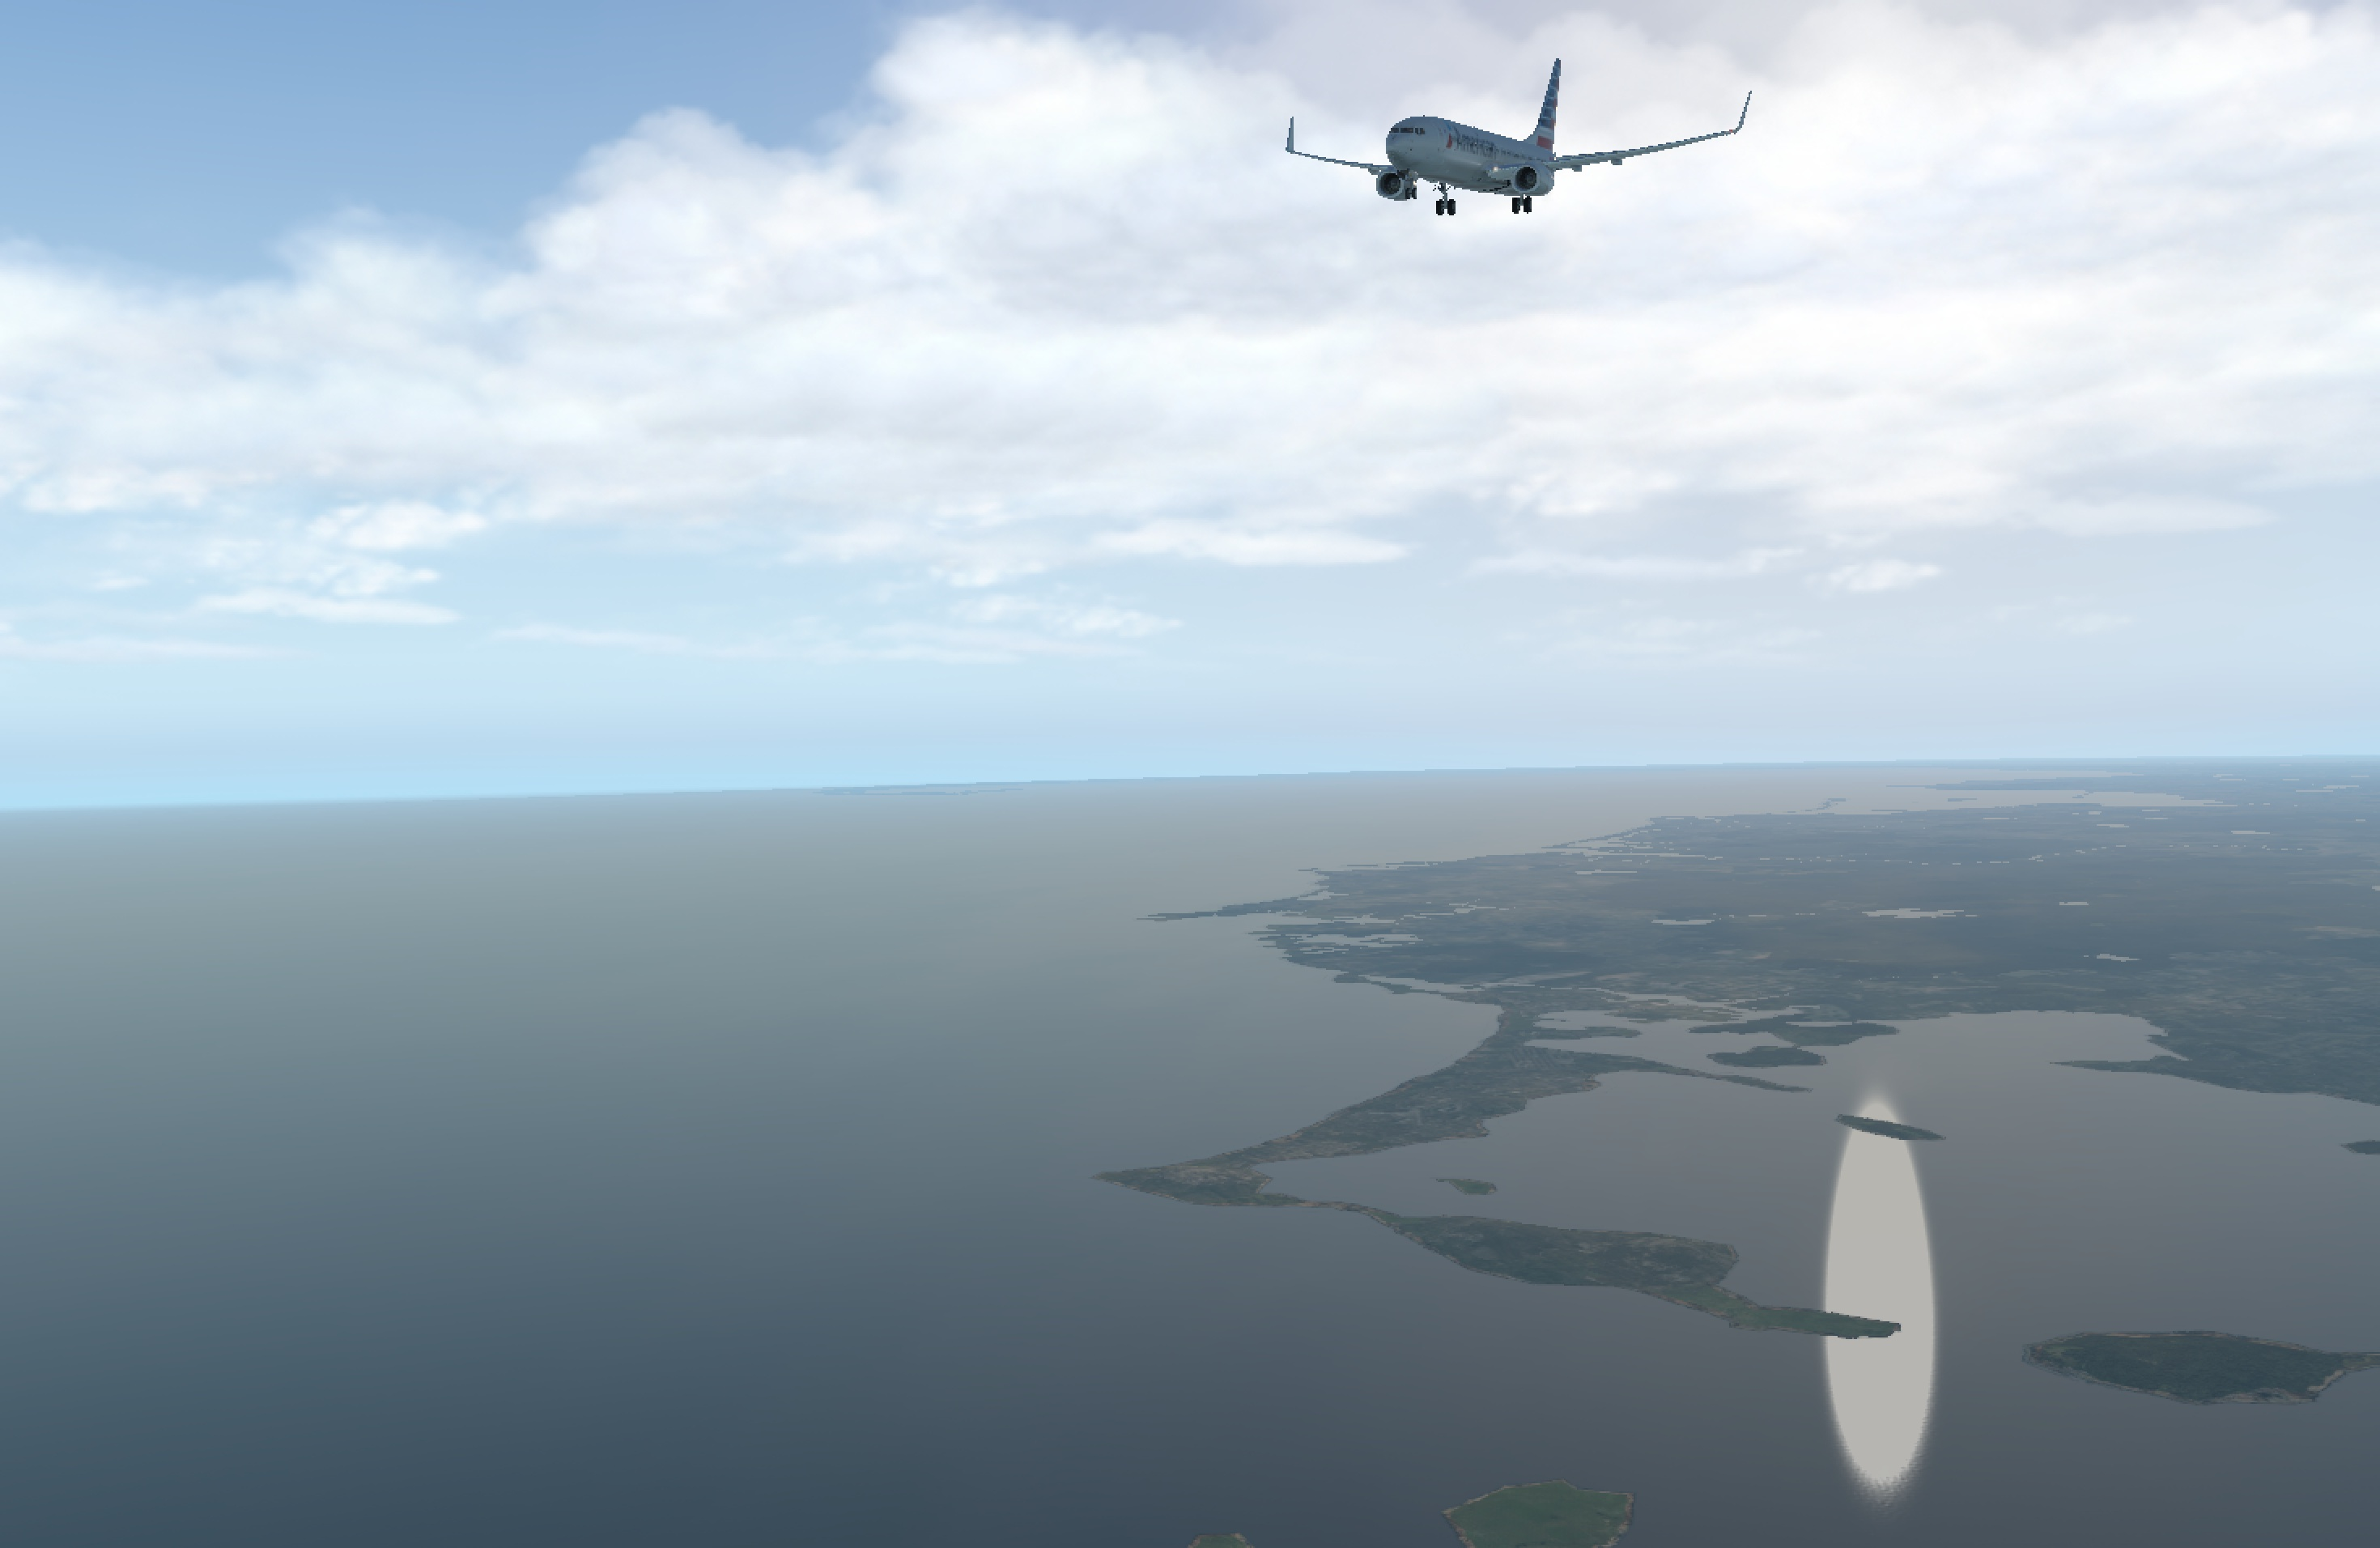aircraft: (1216, 71, 1742, 267)
